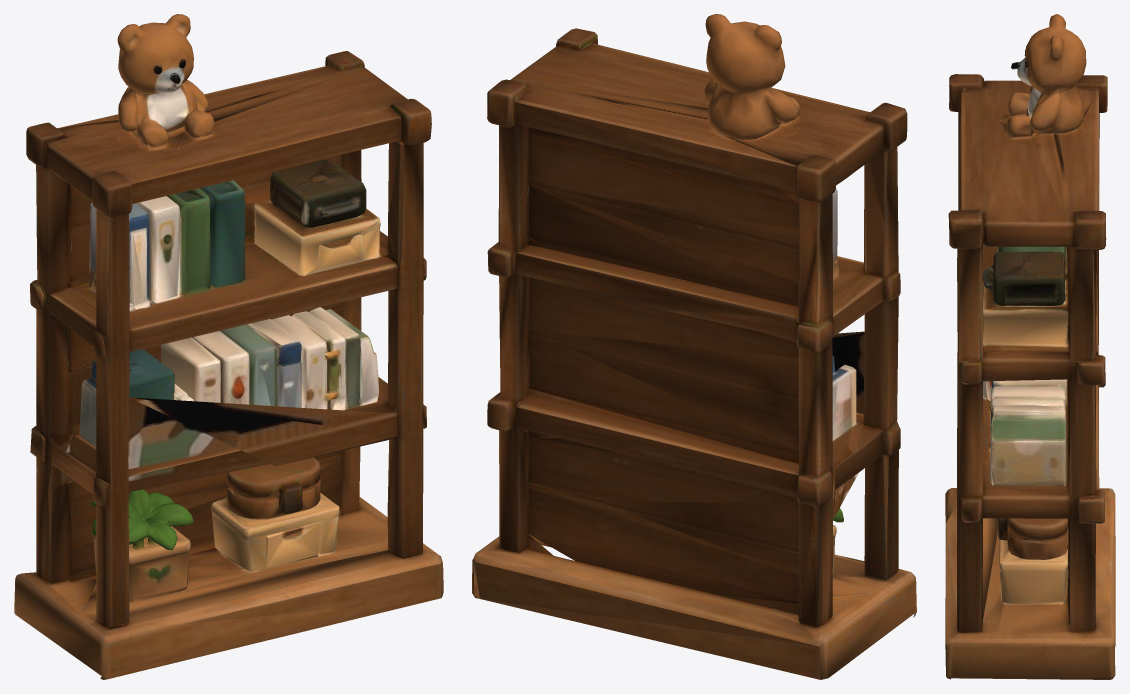
The model's file is bookshelf.gltf.
3 views of the same model, side by side, from view 1: azimuth 30°, elevation 25°; view 2: azimuth 150°, elevation 25°; view 3: azimuth 270°, elevation 25° (orthographic). The views are drawn at different scales.
Parts seen in each view (by area): view 1: bookshelf; view 2: bookshelf; view 3: bookshelf.
Part boxes in pixels (box(x1,y1,x2,y2)): bookshelf: box(14, 14, 443, 679); bookshelf: box(472, 14, 916, 679); bookshelf: box(945, 14, 1115, 679).
Bounding box in the file's own units: 1.63 × 2.7 × 0.7562.
1 material, 1 textured.
